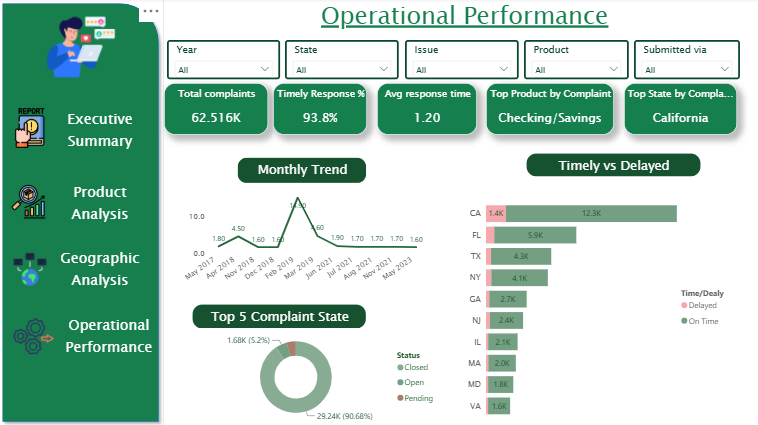

This screenshot's page, from the dashboard's own definition file:
{"tool":"powerbi","page":{"name":"Operational Performance","canvas":[1280,720],"ordinal":3},"visuals":[{"type":"group","id":"g1","title":"Group 4","box":[0,0,280.5,720.6],"z":0},{"type":"shape","box":[0,0,280.5,720.6],"z":0,"group":"g1"},{"type":"textbox","title":"Monthly Trend","box":[403.3,266.7,218.3,45],"z":1000},{"type":"textbox","title":"Top 5  Complaint State","box":[328.3,513.3,293.3,41.7],"z":2000},{"type":"image","box":[55.4,21.8,171.3,120.9],"z":3000},{"type":"image","box":[13.4,184.8,82.3,67.2],"z":4000},{"type":"image","box":[23.5,300.7,58.8,82.3],"z":5000},{"type":"image","box":[26.9,423.3,57.1,65.5],"z":6000},{"type":"image","box":[26.9,534.2,68.9,68.9],"z":7000},{"type":"shape","title":"Operational Performance","box":[290,0,990,81.7],"z":8000},{"type":"cardVisual","title":"Total complaints","fields":{"Data":["Count(Data.Complaint ID)"]},"box":[280,143.3,175,86.7],"z":9000},{"type":"cardVisual","title":"Timely Response %","fields":{"Data":["Data.Timely Complaints %"]},"box":[463.3,143.3,158.3,86.7],"z":10000},{"type":"cardVisual","title":"Avg response time","fields":{"Data":["Data.Average Resolution Days"]},"box":[637.8,143.3,168.3,86.7],"z":11000},{"type":"cardVisual","title":"Top Product by Complaint ","fields":{"Data":["Data.Top Complaint Product"]},"box":[822.2,143.3,215,86.7],"z":12000},{"type":"cardVisual","title":"Top State by Complaint","fields":{"Data":["Data.Top State Complaints"]},"box":[1053.3,143.3,190,86.7],"z":13000},{"type":"barChart","fields":{"Category":["Data.State"],"Y":["CountNonNull(Data.Complaint ID)"],"Series":["Data.Time/Dealy"]},"box":[785,321.7,458.3,398.3],"z":15000},{"type":"donutChart","fields":{"Category":["Data.Status"],"Y":["CountNonNull(Data.Complaint ID)"]},"box":[328.3,555,420,165],"z":16000},{"type":"lineChart","fields":{"Y":["Data.Average Resolution Days"],"Category":["Data.Month Year"]},"box":[308.3,321.7,413.3,166.7],"z":21000},{"type":"actionButton","box":[95.7,178.1,154.5,89],"z":22000},{"type":"actionButton","box":[95.7,300.7,154.5,89],"z":23000},{"type":"actionButton","box":[95.7,411.5,154.5,89],"z":24000},{"type":"actionButton","box":[95.7,524.1,184.8,89],"z":25000},{"type":"slicer","fields":{"Values":["Data.Year"]},"box":[285.6,70.6,189.8,65.5],"z":25001},{"type":"slicer","fields":{"Values":["Data.State"]},"box":[484.2,70.6,191.5,65.5],"z":25002},{"type":"slicer","fields":{"Values":["Data.Product"]},"box":[884.8,70.6,176.4,65.5],"z":25003},{"type":"slicer","fields":{"Values":["Data.Submitted via"]},"box":[1070,70.6,178.1,65.5],"z":25004},{"type":"slicer","fields":{"Values":["Data.Issue"]},"box":[684.5,70.6,191.5,65.5],"z":25005},{"type":"textbox","title":"Timely vs Delayed","box":[888.6,260.4,294,40.3],"z":25006}]}

Visuals, with their boxes in screenshot pixels (x1, y1, x2, y2), scaled from the page's 1280x720 canvas onto the 758x425 screenshot:
"Group 4" group: left=0, top=0, right=166, bottom=424
shape: left=0, top=0, right=166, bottom=424
"Monthly Trend" textbox: left=239, top=157, right=368, bottom=184
"Top 5  Complaint State" textbox: left=194, top=303, right=368, bottom=328
image: left=33, top=13, right=134, bottom=84
image: left=8, top=109, right=57, bottom=149
image: left=14, top=177, right=49, bottom=226
image: left=16, top=250, right=50, bottom=289
image: left=16, top=315, right=57, bottom=356
"Operational Performance" shape: left=172, top=0, right=757, bottom=48
"Total complaints" cardVisual: left=166, top=85, right=269, bottom=136
"Timely Response %" cardVisual: left=274, top=85, right=368, bottom=136
"Avg response time" cardVisual: left=378, top=85, right=477, bottom=136
"Top Product by Complaint " cardVisual: left=487, top=85, right=614, bottom=136
"Top State by Complaint" cardVisual: left=624, top=85, right=736, bottom=136
barChart - Data.State x CountNonNull(Data.Complaint ID): left=465, top=190, right=736, bottom=424
donutChart - Data.Status x CountNonNull(Data.Complaint ID): left=194, top=328, right=443, bottom=424
lineChart - Data.Average Resolution Days x Data.Month Year: left=183, top=190, right=427, bottom=288
actionButton: left=57, top=105, right=148, bottom=158
actionButton: left=57, top=177, right=148, bottom=230
actionButton: left=57, top=243, right=148, bottom=295
actionButton: left=57, top=309, right=166, bottom=362
slicer - Data.Year: left=169, top=42, right=282, bottom=80
slicer - Data.State: left=287, top=42, right=400, bottom=80
slicer - Data.Product: left=524, top=42, right=628, bottom=80
slicer - Data.Submitted via: left=634, top=42, right=739, bottom=80
slicer - Data.Issue: left=405, top=42, right=519, bottom=80
"Timely vs Delayed" textbox: left=526, top=154, right=700, bottom=177
